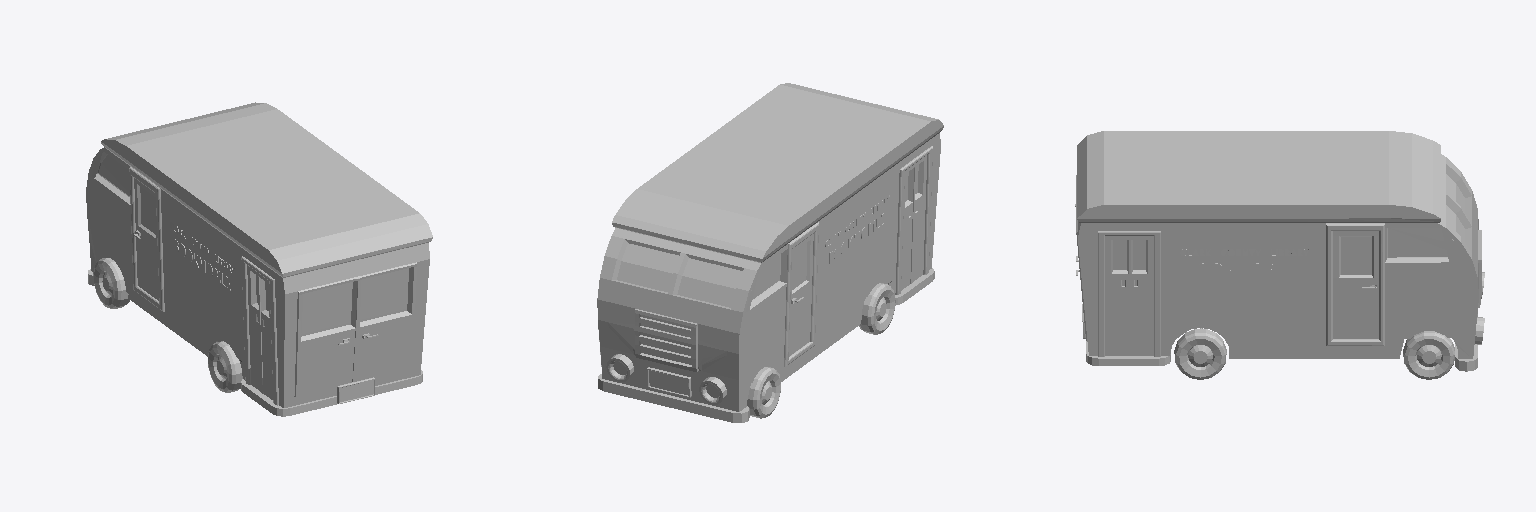
The model's file is bookmobileObj.obj.
3 views of the same model, side by side, from view 1: azimuth 30°, elevation 25°; view 2: azimuth 150°, elevation 25°; view 3: azimuth 270°, elevation 25° (orthographic).
Visible parts, largest first — view 1: pCube15; view 2: pCube15; view 3: pCube15, typeMesh5.
Part boxes in pixels (left/top/right/bottom): pCube15: left=86, top=102, right=432, bottom=416; pCube15: left=597, top=83, right=943, bottom=422; pCube15: left=1075, top=131, right=1484, bottom=379; typeMesh5: left=1188, top=263, right=1297, bottom=275.
Bounding box in the file's own units: 10.18 × 11.2 × 23.48.